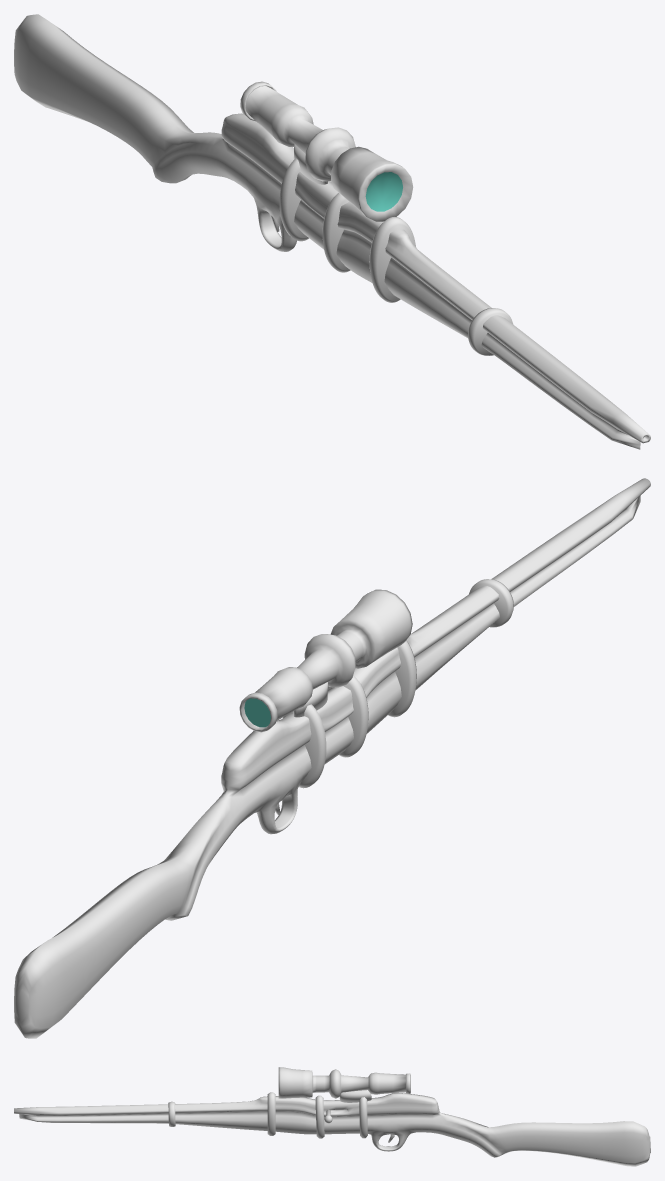
The model's file is kodak.fbx.
3 renders of one model, top to bottom at view 1: azimuth 30°, elevation 25°; view 2: azimuth 150°, elevation 25°; view 3: azimuth 270°, elevation 25°, orthographic. The views are drawn at different scales.
Parts seen in each view (by area): view 1: Kodak.002; view 2: Kodak.002; view 3: Kodak.002.
Boxes of the visible parts, box(x1,y1,x2,y2) form: Kodak.002: box(14, 14, 650, 449); Kodak.002: box(14, 478, 650, 1038); Kodak.002: box(14, 1067, 650, 1166).
Bounding box in the file's own units: 7.06 × 17.37 × 102.
